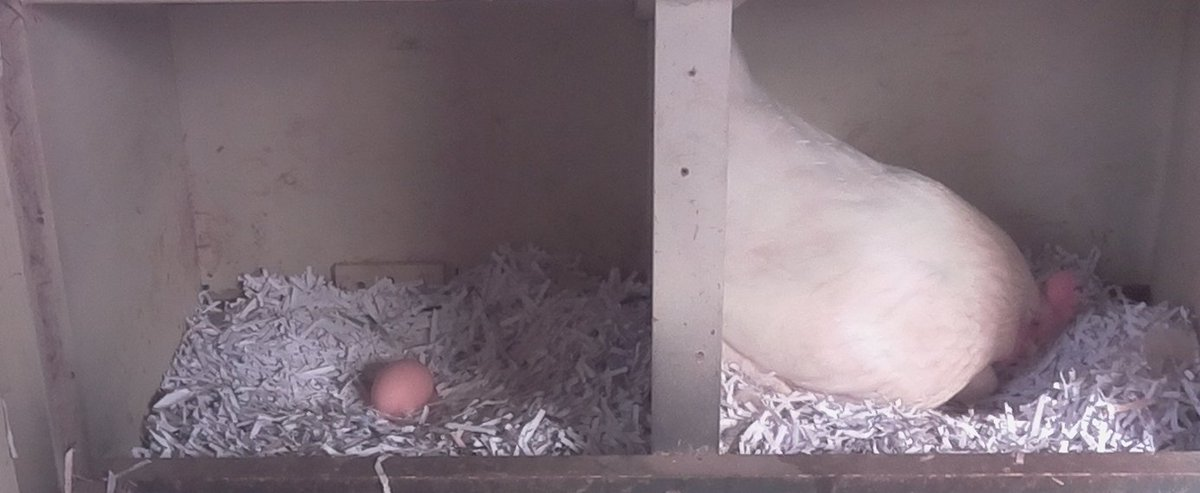egg: (369, 356, 436, 422)
hen: (730, 35, 1092, 422)
